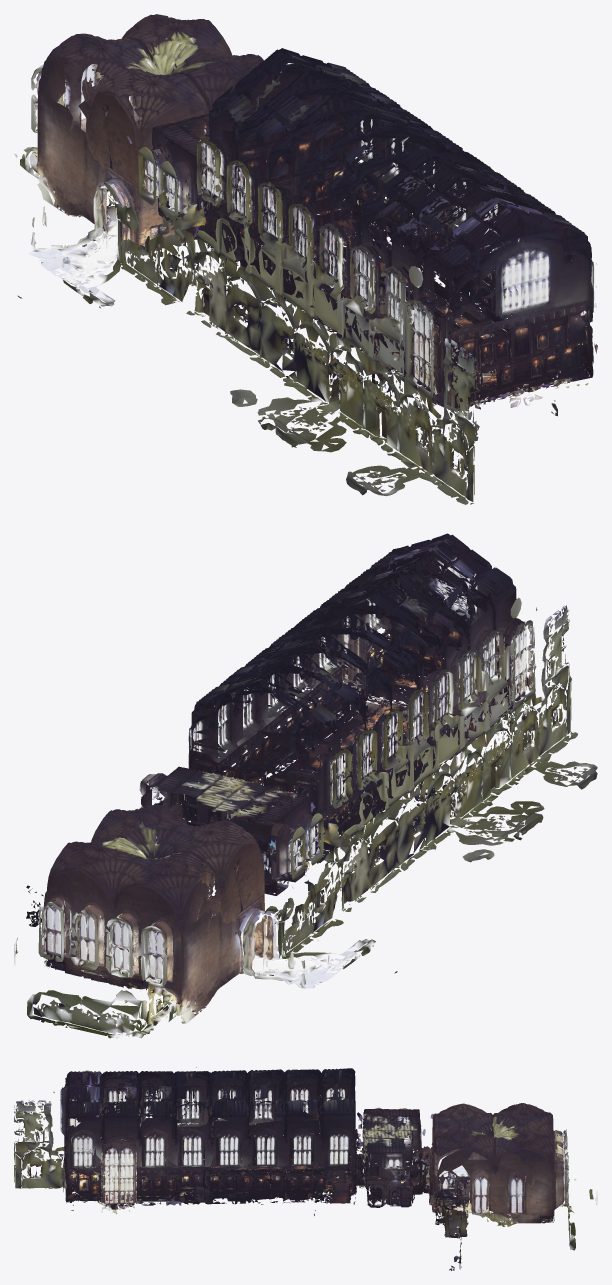
Rendered from christ-church-mobile.glb.
The picture shows the model from 3 angles, top to bottom: view 1: azimuth 30°, elevation 25°; view 2: azimuth 150°, elevation 25°; view 3: azimuth 270°, elevation 25°; orthographic projection. The views are drawn at different scales.
Visible parts, largest first — view 1: Christ Church, Oxford; view 2: Christ Church, Oxford; view 3: Christ Church, Oxford.
Boxes of the visible parts, x1,y1,x2,y2 form: Christ Church, Oxford: [14, 14, 597, 504]; Christ Church, Oxford: [14, 533, 597, 1038]; Christ Church, Oxford: [14, 1067, 597, 1270].
Bounding box in the file's own units: 32.37 × 21.61 × 70.14.
Materials: 19 (18 with a texture image).
